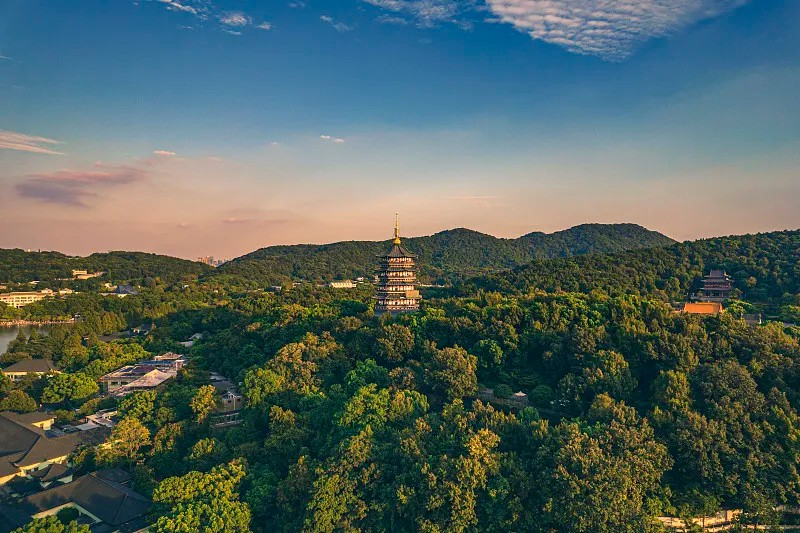Leifeng: (370, 211, 425, 319)
